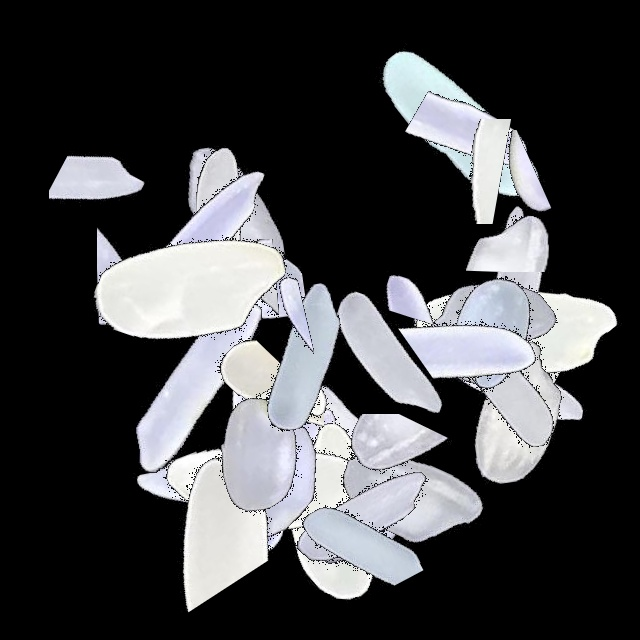Broken: (91, 200, 341, 373), (265, 390, 431, 640), (117, 388, 275, 638), (218, 366, 375, 616), (357, 71, 607, 218), (49, 83, 191, 333), (351, 258, 601, 391), (261, 414, 511, 540), (206, 305, 324, 555), (378, 157, 628, 272), (96, 239, 346, 349), (355, 130, 605, 240), (97, 142, 203, 392), (323, 119, 573, 224), (227, 446, 477, 545), (219, 241, 316, 491), (257, 296, 344, 546), (345, 390, 427, 640), (160, 157, 242, 407), (489, 240, 570, 490), (321, 248, 571, 327), (390, 338, 640, 413)
Full: (390, 259, 640, 509), (199, 318, 449, 568), (107, 84, 357, 334), (199, 349, 449, 599), (105, 366, 355, 616), (135, 331, 385, 581), (108, 390, 358, 640), (333, 0, 583, 250), (361, 223, 611, 473), (390, 159, 640, 409), (72, 263, 322, 513), (92, 94, 342, 344), (63, 121, 313, 371), (205, 387, 455, 637), (244, 390, 494, 640), (140, 360, 390, 610), (390, 200, 640, 450), (267, 228, 517, 478), (282, 374, 532, 624), (152, 354, 402, 604), (365, 196, 615, 446), (390, 289, 640, 539), (241, 390, 491, 640), (380, 265, 630, 515), (61, 162, 311, 412), (373, 205, 623, 455), (129, 329, 379, 579), (178, 233, 428, 483)
